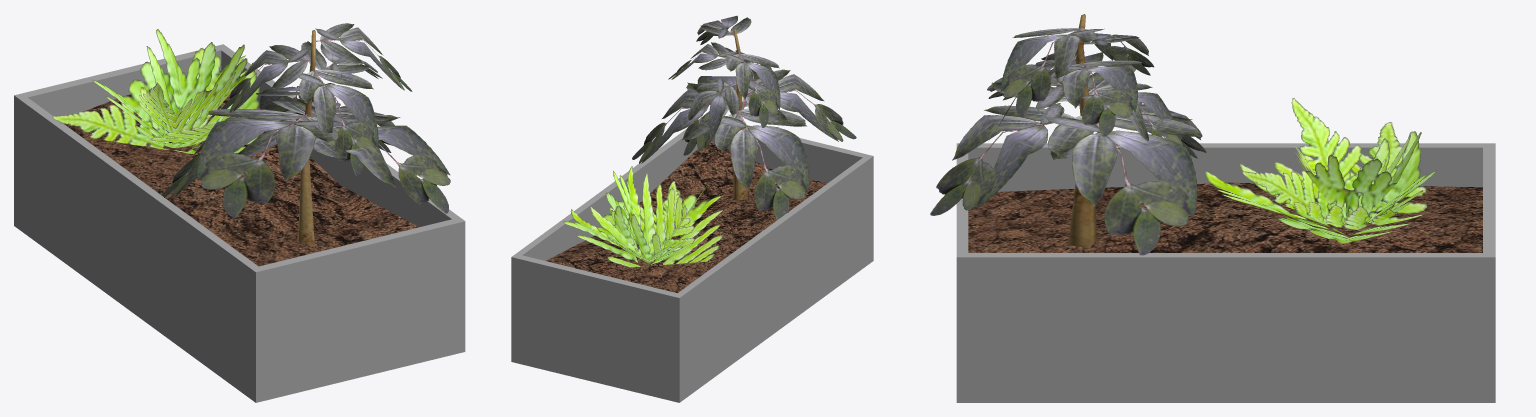
Rendered from Model_Plant_Potted_Small_01.fbx.
3 views of the same model, side by side, from view 1: azimuth 30°, elevation 25°; view 2: azimuth 150°, elevation 25°; view 3: azimuth 270°, elevation 25° (orthographic). The views are drawn at different scales.
Parts seen in each view (by area): view 1: Plant_Potted_Small_01; view 2: Plant_Potted_Small_01; view 3: Plant_Potted_Small_01.
Part boxes in pixels (left/top/right/bottom): Plant_Potted_Small_01: left=14, top=23, right=465, bottom=402; Plant_Potted_Small_01: left=511, top=15, right=873, bottom=402; Plant_Potted_Small_01: left=930, top=14, right=1495, bottom=402.
Bounding box in the file's own units: 132 × 138 × 230.
